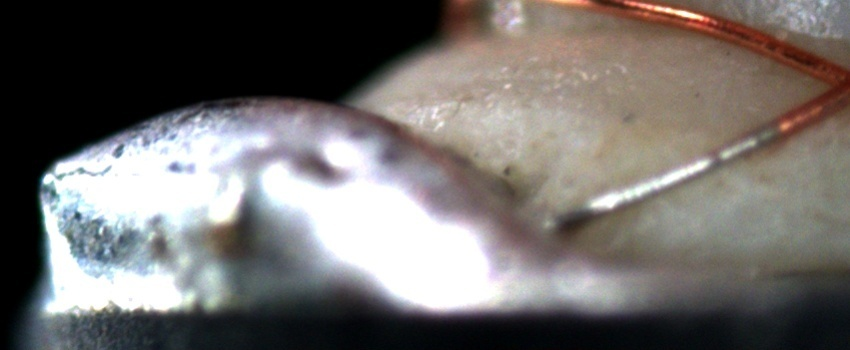CL: (801, 51, 850, 119)
TS: (548, 125, 779, 230)
